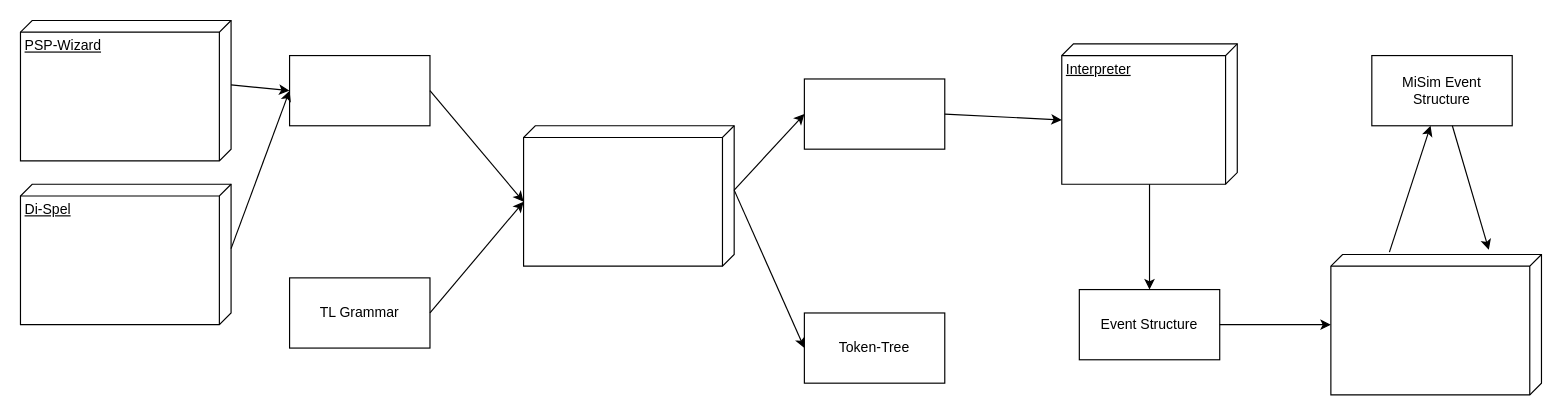
The diagram is 1562 pixels wide and 415 high, and some of its shapes have lost their labels. The centre of each missing label's shape, as x and y in pixels:
"AST" belongs at [874,113].
"MiSim" belongs at [1435,324].
"TL Formula" belongs at [359,90].
"TL-Tea" belongs at [628,195].
